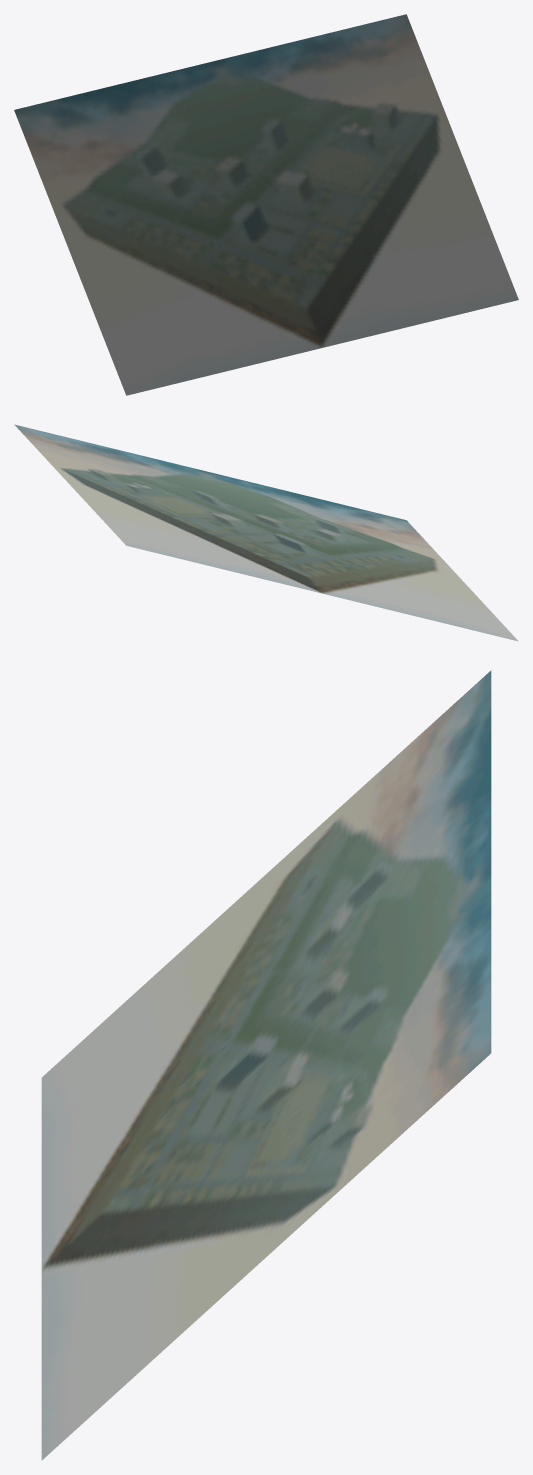
3 renders of one model, top to bottom at view 1: azimuth 30°, elevation 25°; view 2: azimuth 150°, elevation 25°; view 3: azimuth 270°, elevation 25°, orthographic. The views are drawn at different scales.
Parts seen in each view (by area): view 1: Joint_0_Object_0; view 2: Joint_0_Object_0; view 3: Joint_0_Object_0.
Part boxes in pixels (bbox=[...]): Joint_0_Object_0: bbox=[14, 14, 518, 395]; Joint_0_Object_0: bbox=[14, 424, 518, 641]; Joint_0_Object_0: bbox=[41, 670, 491, 1460].
Bounding box in the file's own units: 241 × 120 × 120.
1 material, 1 textured.
